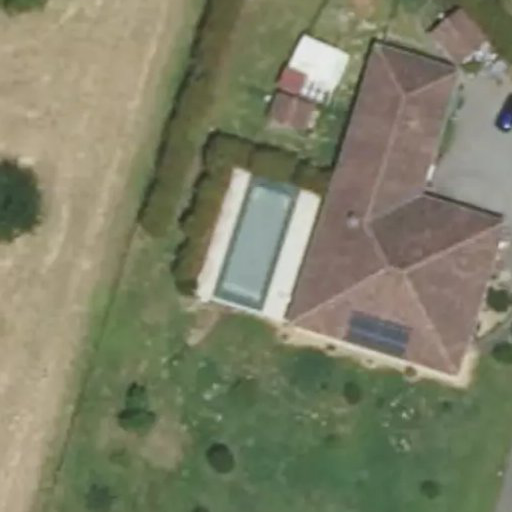pool: (209, 181, 302, 311)
